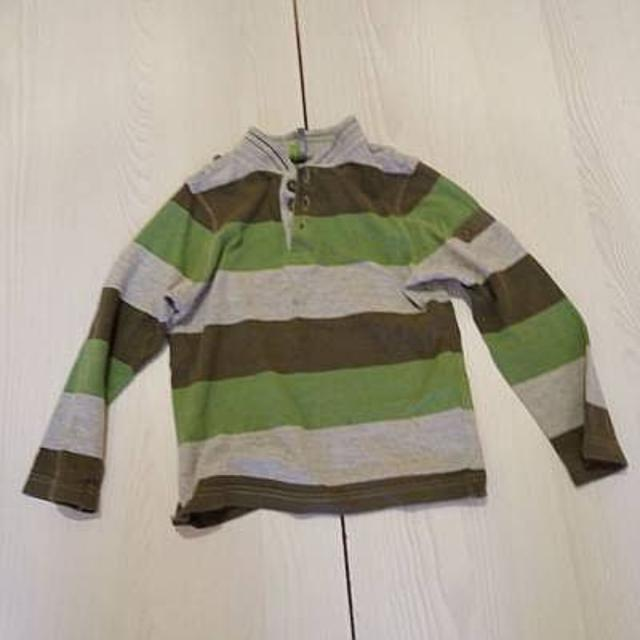SHIRT: (7, 102, 640, 536)
